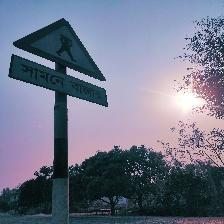Market-in-front: (9, 17, 108, 108)
